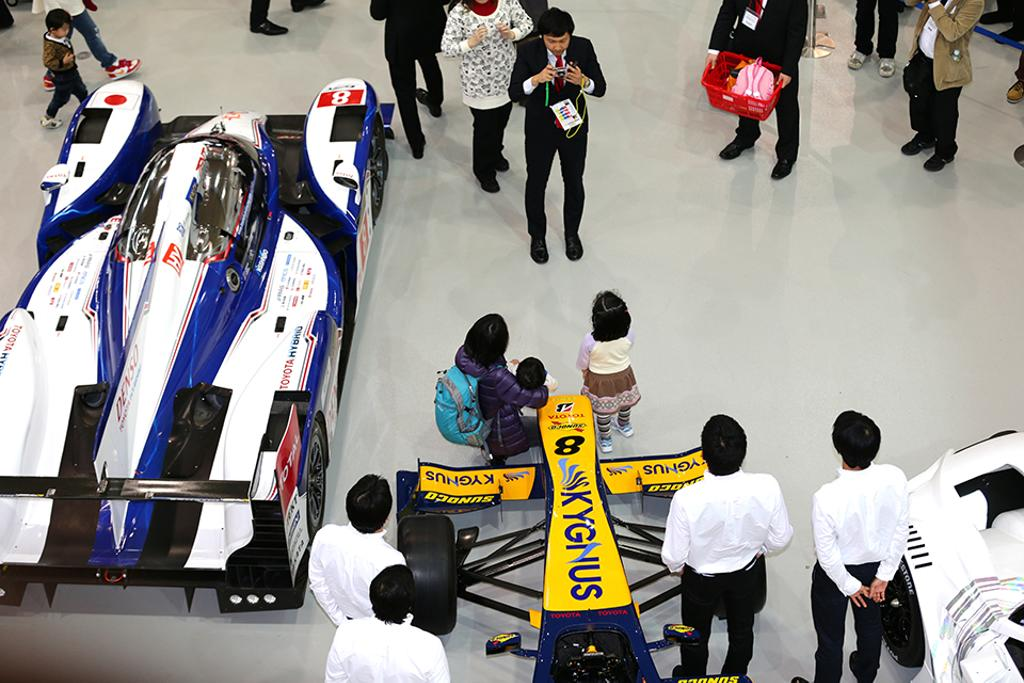face: (543, 36, 569, 55), (194, 402, 208, 423), (55, 25, 66, 37)
